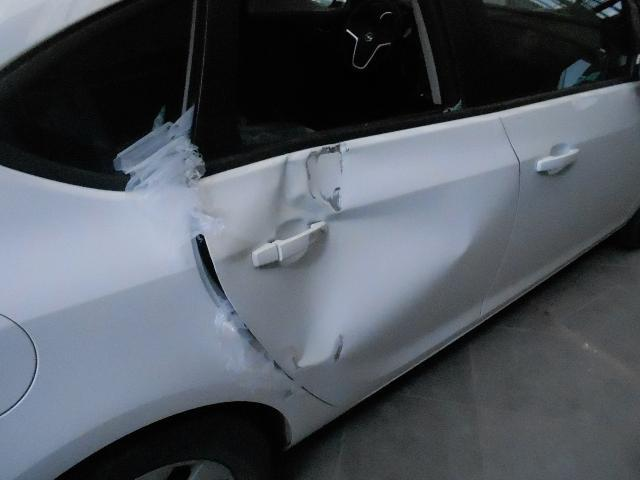dent: (233, 157, 484, 387), (254, 147, 367, 262), (268, 216, 311, 242)
dislocated part: (175, 5, 348, 411), (265, 234, 287, 266)
